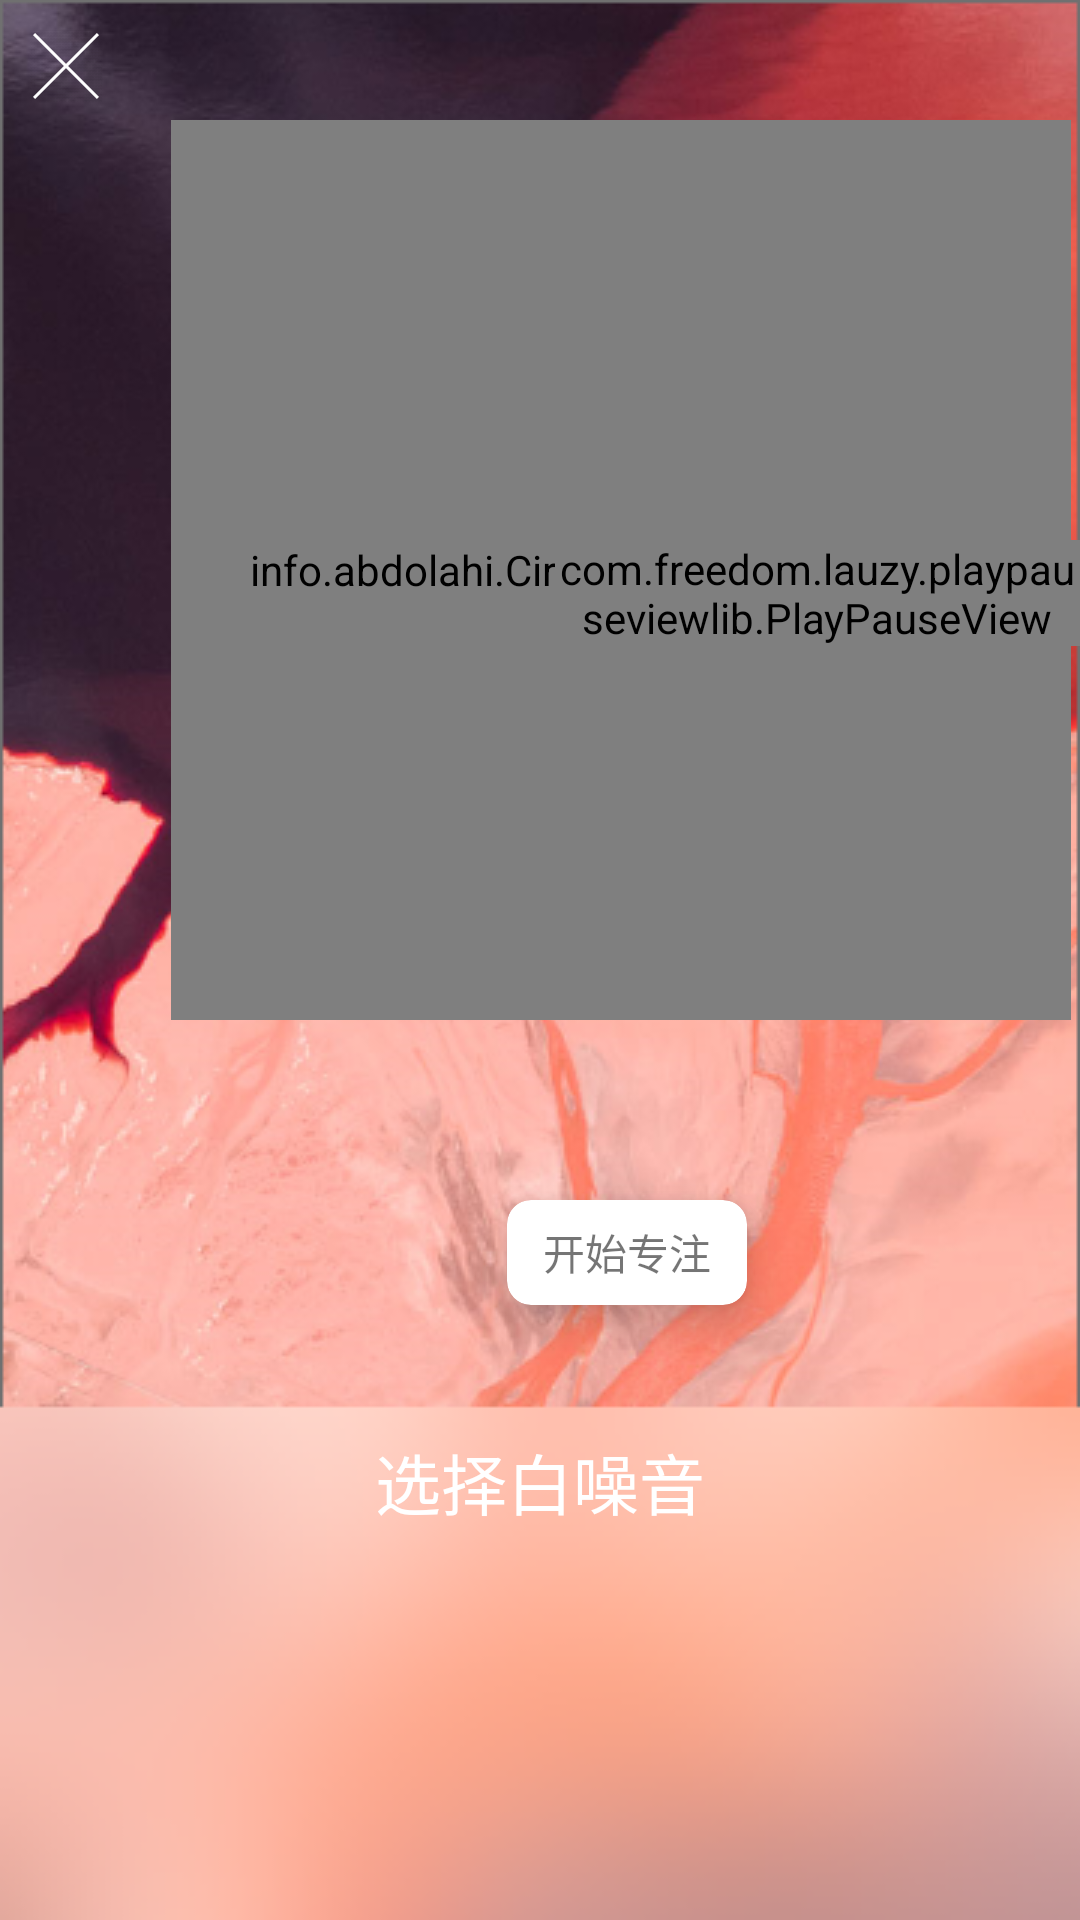

Icons on this 1080×1920 Android screen, each with its box as [left=x1, top=y1, right=x2, bottom=y2]:
close: [left=0, top=0, right=132, bottom=132]
